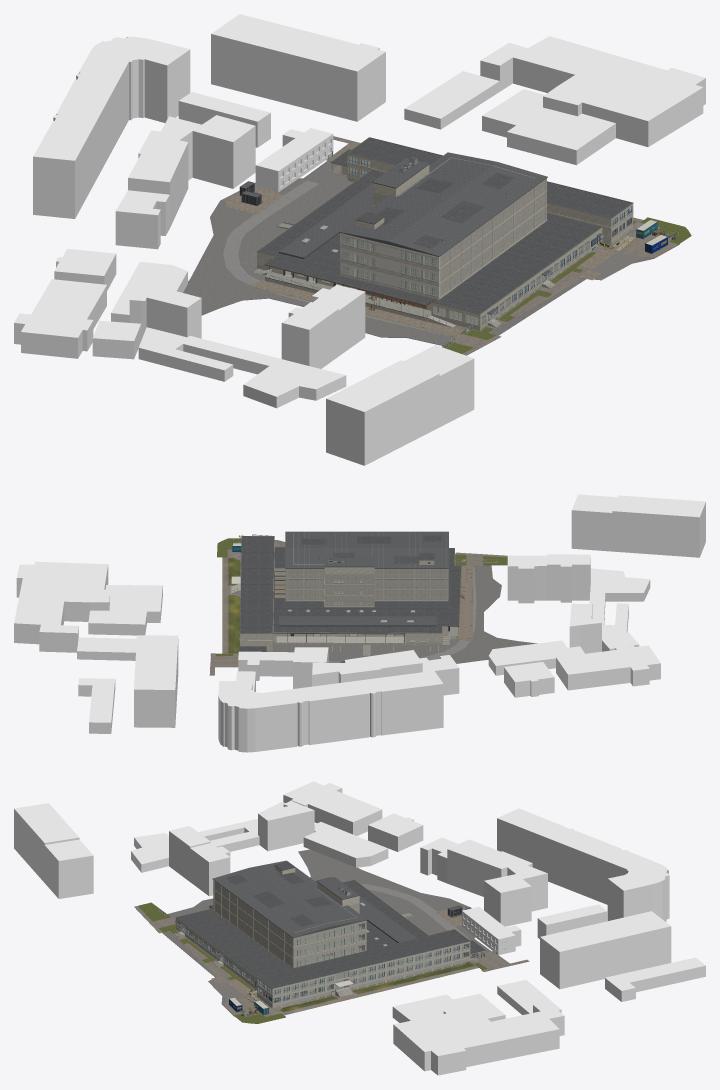
File: context.glb
3 views of the same model, one above another, from view 1: azimuth 30°, elevation 25°; view 2: azimuth 150°, elevation 25°; view 3: azimuth 270°, elevation 25° (orthographic). The views are drawn at different scales.
Parts seen in each view (by area): view 1: Gelände | Werkhof und Zugangsflächen, Nachbargebäude | osm-w150966256, Nachbargebäude | osm-w150966286, Nachbargebäude | osm-w150966287, Hochbau | vier Geschosse und Dach, Mauerwerk | Außenwände mit durchgehenden Fensteröffnungen, Nachbargebäude | osm-w150966271, Fabrik | niedrige Flügel, Nachbargebäude | osm-w151746865, Fassaden | Fenster und Geschossbänder, Nachbargebäude | osm-w1391403675, Nachbargebäude | osm-w151746862 (+21 smaller); view 2: Nachbargebäude | osm-w150966256, Gelände | Werkhof und Zugangsflächen, Nachbargebäude | osm-w150966286, Mauerwerk | Außenwände mit durchgehenden Fensteröffnungen, Hochbau | vier Geschosse und Dach, Nachbargebäude | osm-w150966271, Fabrik | niedrige Flügel, Nachbargebäude | osm-w150966287, Nachbargebäude | osm-w151746862, Jagdweg | Sockelgeschoss und zwei Fensterreihen, Nachbargebäude | osm-w1391403675, Fassaden | Fenster und Geschossbänder (+17 smaller); view 3: Nachbargebäude | osm-w150966256, Gelände | Werkhof und Zugangsflächen, Nachbargebäude | osm-w150966286, Nachbargebäude | osm-w150966287, Mauerwerk | Außenwände mit durchgehenden Fensteröffnungen, Hochbau | vier Geschosse und Dach, Fassaden | Fenster und Geschossbänder, Fabrik | niedrige Flügel, Nachbargebäude | osm-w150966259, Jagdweg | Sockelgeschoss und zwei Fensterreihen, Nachbargebäude | osm-w151746862, Nachbargebäude | osm-w150966271 (+20 smaller).
Boxes of the visible parts, left/top/right/bottom form: Gelände | Werkhof und Zugangsflächen: left=183, top=136, right=691, bottom=355; Nachbargebäude | osm-w150966256: left=33, top=36, right=190, bottom=218; Nachbargebäude | osm-w150966286: left=480, top=36, right=705, bottom=146; Nachbargebäude | osm-w150966287: left=211, top=14, right=385, bottom=121; Hochbau | vier Geschosse und Dach: left=339, top=152, right=547, bottom=256; Mauerwerk | Außenwände mit durchgehenden Fensteröffnungen: left=257, top=154, right=633, bottom=330; Nachbargebäude | osm-w150966271: left=326, top=360, right=439, bottom=465; Fabrik | niedrige Flügel: left=257, top=164, right=632, bottom=314; Nachbargebäude | osm-w151746865: left=138, top=327, right=346, bottom=408; Fassaden | Fenster und Geschossbänder: left=257, top=137, right=633, bottom=329; Nachbargebäude | osm-w1391403675: left=482, top=89, right=615, bottom=165; Nachbargebäude | osm-w151746862: left=14, top=279, right=106, bottom=358; Nachbargebäude | osm-w150966256: left=218, top=671, right=443, bottom=752; Gelände | Werkhof und Zugangsflächen: left=209, top=538, right=537, bottom=675; Nachbargebäude | osm-w150966286: left=14, top=561, right=109, bottom=652; Mauerwerk | Außenwände mit durchgehenden Fensteröffnungen: left=240, top=553, right=448, bottom=651; Hochbau | vier Geschosse und Dach: left=285, top=531, right=448, bottom=568; Nachbargebäude | osm-w150966271: left=612, top=495, right=705, bottom=557; Fabrik | niedrige Flügel: left=241, top=547, right=454, bottom=641; Nachbargebäude | osm-w150966287: left=134, top=635, right=178, bottom=727; Nachbargebäude | osm-w151746862: left=556, top=645, right=660, bottom=690; Jagdweg | Sockelgeschoss und zwei Fensterreihen: left=240, top=536, right=274, bottom=634; Nachbargebäude | osm-w1391403675: left=88, top=585, right=162, bottom=635; Fassaden | Fenster und Geschossbänder: left=239, top=536, right=456, bottom=648; Nachbargebäude | osm-w150966256: left=497, top=808, right=669, bottom=921; Gelände | Werkhof und Zugangsflächen: left=134, top=849, right=529, bottom=1023; Nachbargebäude | osm-w150966286: left=393, top=1001, right=564, bottom=1075; Nachbargebäude | osm-w150966287: left=540, top=911, right=671, bottom=989; Mauerwerk | Außenwände mit durchgehenden Fensteröffnungen: left=176, top=880, right=470, bottom=1008; Hochbau | vier Geschosse und Dach: left=212, top=860, right=367, bottom=938; Fassaden | Fenster und Geschossbänder: left=176, top=879, right=470, bottom=1007; Fabrik | niedrige Flügel: left=177, top=880, right=469, bottom=996; Nachbargebäude | osm-w150966259: left=447, top=839, right=547, bottom=911; Jagdweg | Sockelgeschoss und zwei Fensterreihen: left=257, top=929, right=469, bottom=988; Nachbargebäude | osm-w151746862: left=283, top=781, right=382, bottom=835; Nachbargebäude | osm-w150966271: left=14, top=803, right=79, bottom=882.
Size of what is drawn, in the model's own units: 253 by 25.65 by 265.
Materials: 120 (38 with a texture image).
